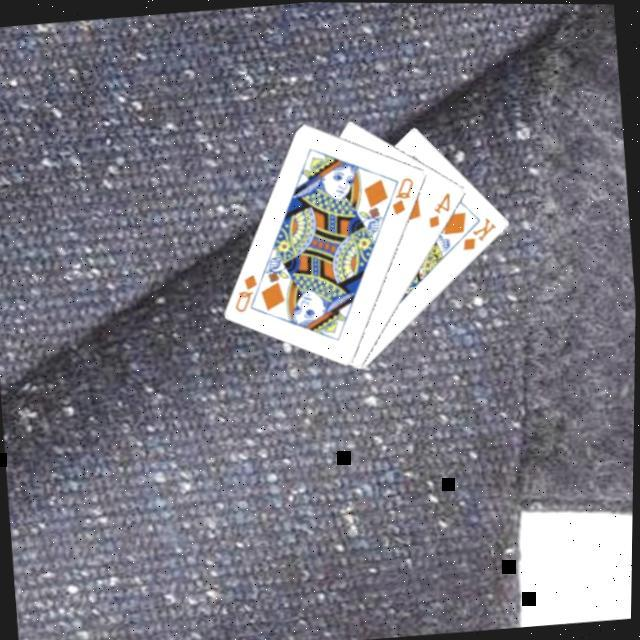4D: (424, 190, 457, 232)
KD: (459, 214, 502, 254)
QD: (230, 272, 266, 316), (387, 174, 421, 218)
